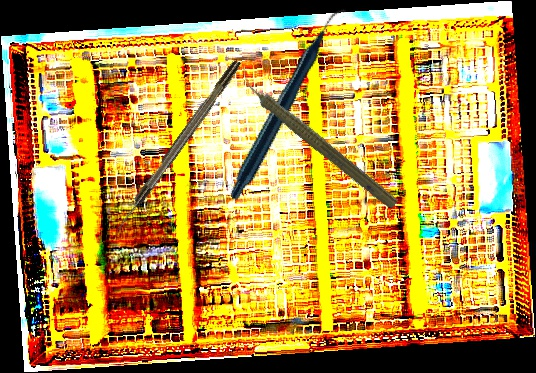Handpiece: (179, 7, 400, 202), (229, 65, 404, 213)
Hook Surgical: (111, 58, 244, 235)
